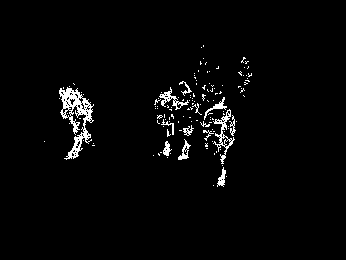person: (199, 80, 238, 191), (56, 83, 97, 163), (175, 77, 200, 163), (153, 84, 179, 159)
